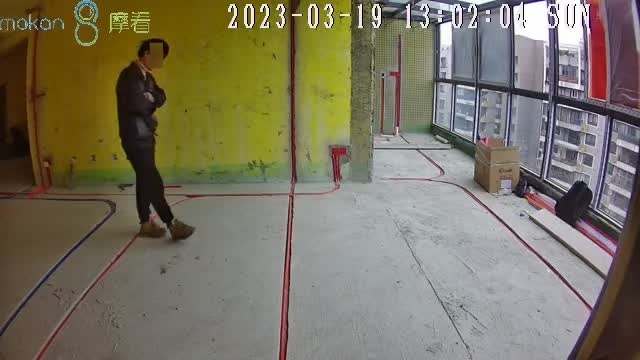people: (115, 37, 195, 238)
window: (432, 1, 639, 232)
